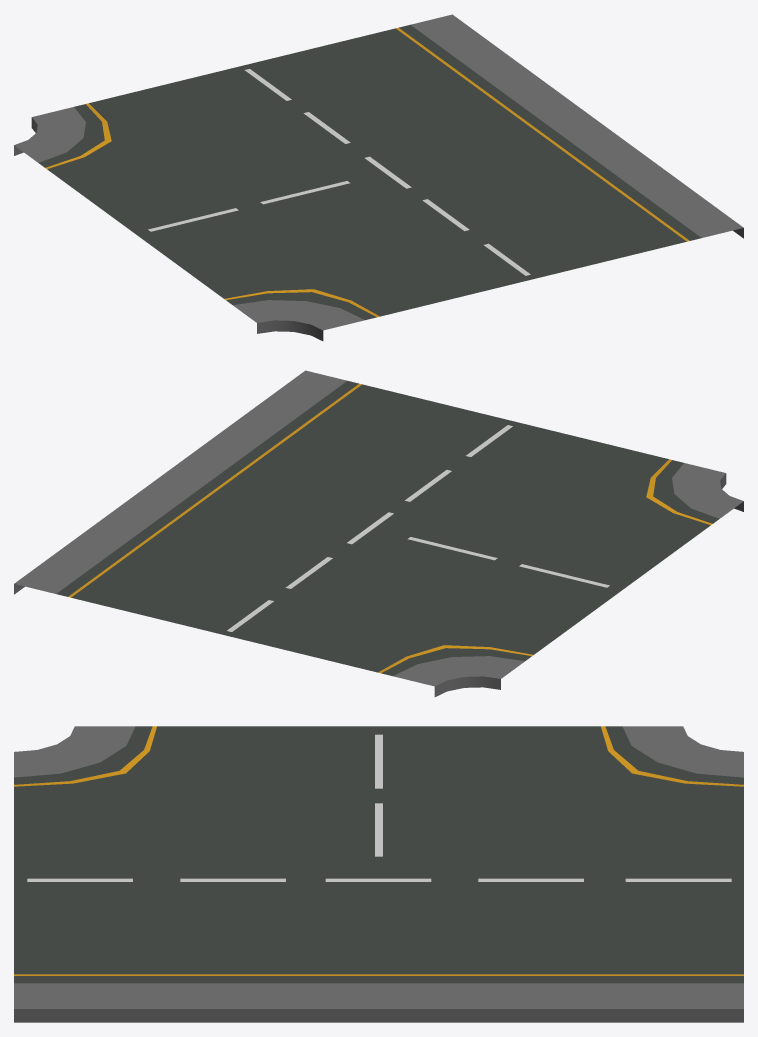
The model's file is SM_Road_8.FBX.
The picture shows the model from 3 angles, top to bottom: view 1: azimuth 30°, elevation 25°; view 2: azimuth 150°, elevation 25°; view 3: azimuth 270°, elevation 25°; orthographic projection. The views are drawn at different scales.
Parts seen in each view (by area): view 1: SM_Road_8; view 2: SM_Road_8; view 3: SM_Road_8.
Part boxes in pixels (x1,y1,x2,y2): SM_Road_8: (14, 14, 743, 340); SM_Road_8: (14, 370, 743, 696); SM_Road_8: (14, 726, 743, 1022).
Size of what is drawn, in the model's own units: 1100 by 1200 by 25.
